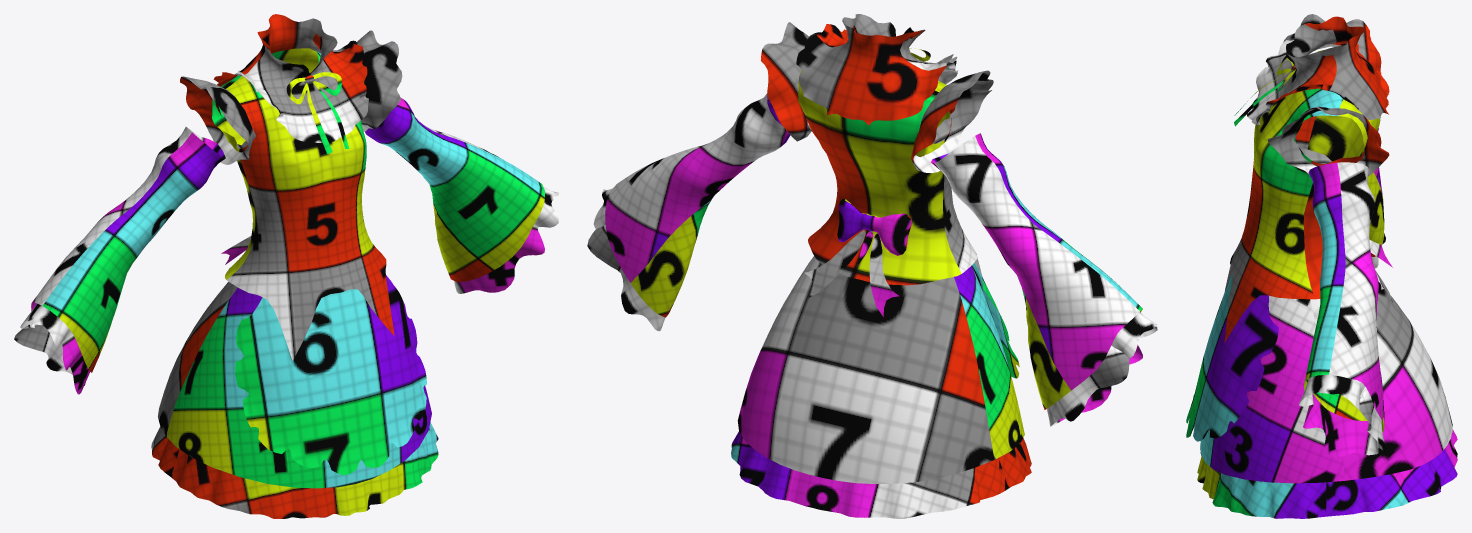
The model's file is 单独衣服.FBX.
The picture shows the model from 3 angles, left to right: view 1: azimuth 30°, elevation 25°; view 2: azimuth 150°, elevation 25°; view 3: azimuth 270°, elevation 25°; orthographic projection. The views are drawn at different scales.
Parts seen in each view (by area): view 1: Object013; view 2: Object013; view 3: Object013.
Boxes of the visible parts, x1,y1,x2,y2 form: Object013: (14,14,558,518); Object013: (587,14,1157,518); Object013: (1186,14,1457,518).
Bounding box in the file's own units: 102 × 80.6 × 44.31.
Materials: 1 (1 with a texture image).
